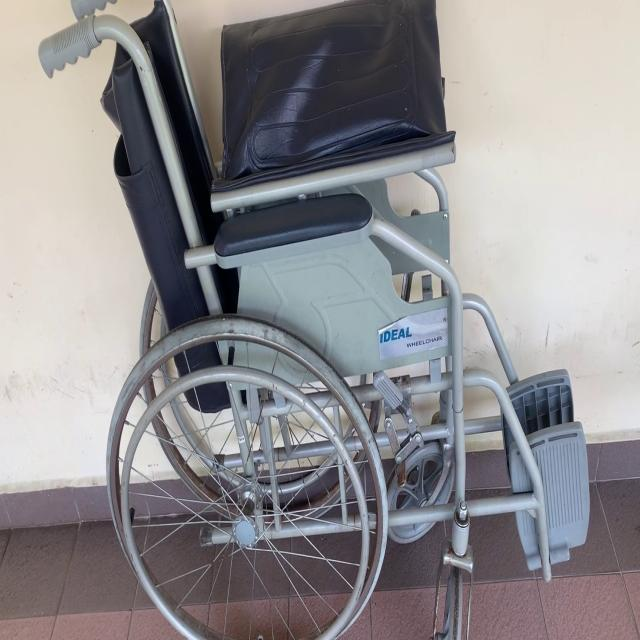wheelchair: (32, 0, 610, 640)
